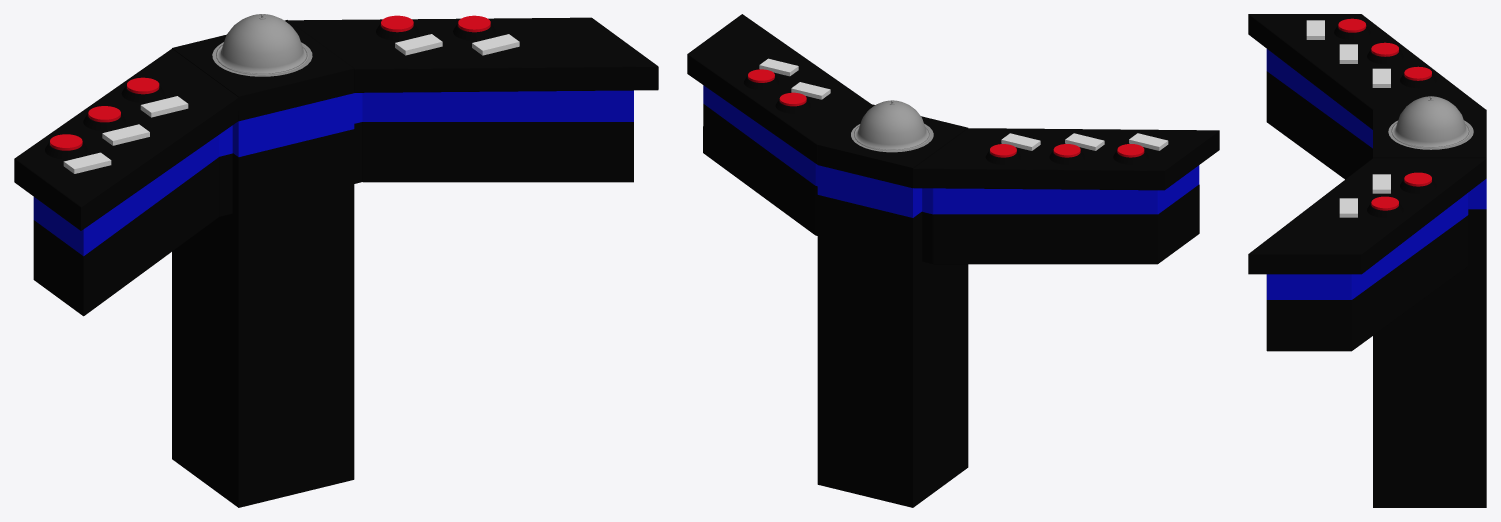
Rendered from NMB_Desk.fbx.
The picture shows the model from 3 angles, left to right: view 1: azimuth 30°, elevation 25°; view 2: azimuth 150°, elevation 25°; view 3: azimuth 270°, elevation 25°; orthographic projection. The views are drawn at different scales.
Visible parts, largest first — view 1: mid_desk_under, right_desk, left_desk, mid_desk, mode_up, b1, b3, b4, b5, b2; view 2: mid_desk_under, left_desk, right_desk, mid_desk, mode_up, b4, b2, b1, b5, b3; view 3: right_desk, mid_desk_under, left_desk, mid_desk, mode_up, b4, b5, b1, b2, b3, H1, H2 (+4 smaller).
Boxes of the visible parts, x1,y1,x2,y2 form: mid_desk_under: (172,189,354,507); right_desk: (289,17,658,183); left_desk: (14,49,238,316); mid_desk: (172,20,354,217); mode_up: (216,14,308,75); b1: (45,134,87,159); b3: (121,77,164,102); b4: (376,15,418,40); b5: (453,15,495,40); b2: (83,106,125,130); mid_desk_under: (817,245,968,507); left_desk: (913,128,1219,264); right_desk: (687,14,871,235); mid_desk: (817,104,967,267); mode_up: (854,100,930,150); b4: (775,92,810,113); b2: (1049,144,1084,164); b1: (1113,144,1148,164); b5: (744,69,778,89); b3: (985,144,1020,164); right_desk: (1248,158,1486,351); mid_desk_under: (1373,260,1486,507); left_desk: (1248,14,1485,179); mid_desk: (1373,109,1486,260); mode_up: (1391,96,1470,148); b4: (1400,172,1436,193); b5: (1367,196,1403,217); b1: (1334,18,1370,39); b2: (1367,42,1403,63); b3: (1400,66,1436,87); H1: (1306,20,1324,39); H2: (1339,44,1357,63).
Bounding box in the file's own units: 500 × 376 × 210.
